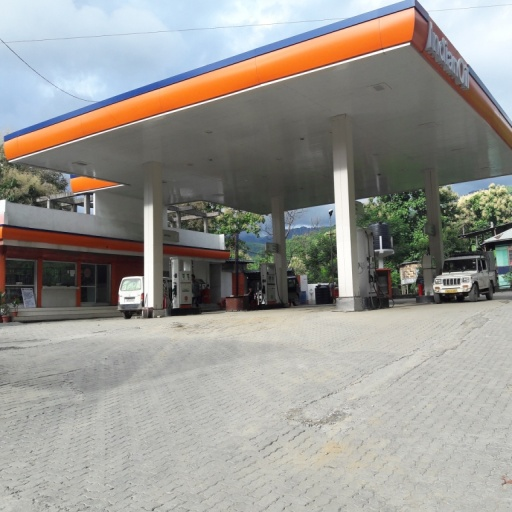roof: (1, 5, 509, 213)
